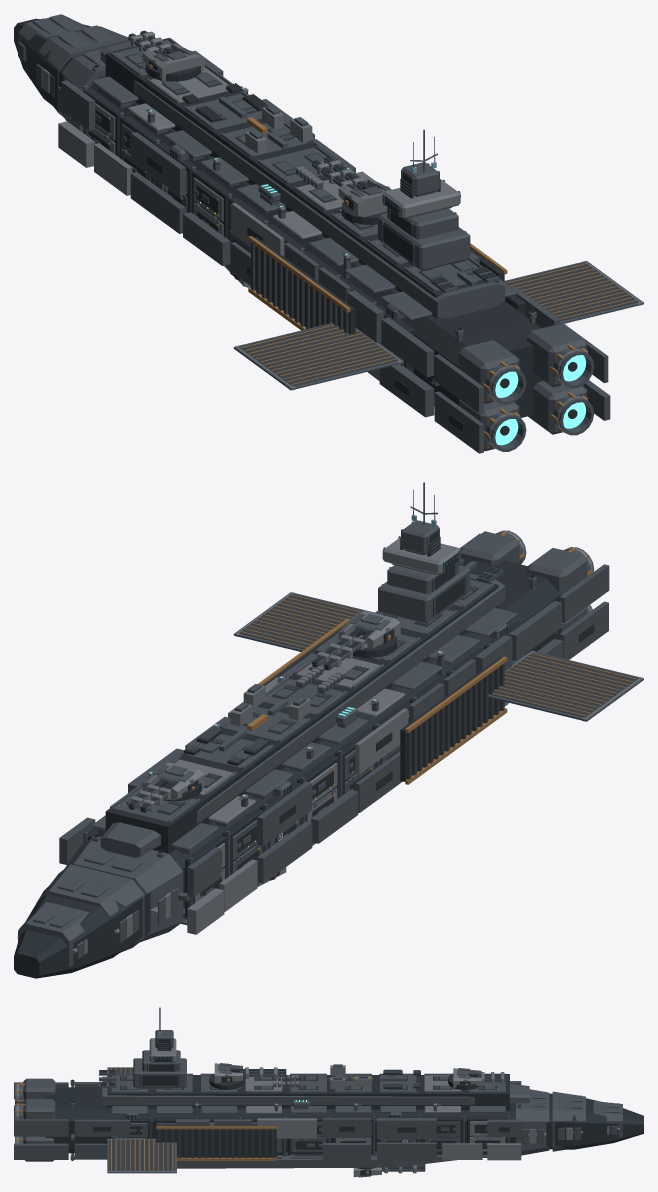
File: battleship.glb
The picture shows the model from 3 angles, top to bottom: view 1: azimuth 30°, elevation 25°; view 2: azimuth 150°, elevation 25°; view 3: azimuth 270°, elevation 25°; orthographic projection. The views are drawn at different scales.
Visible parts, largest first — view 1: FleetHull, mesh_turret_gun_2, mesh_turret_gun_1, mesh_recoil_gun_2, mesh_recoil_gun_1; view 2: FleetHull, mesh_recoil_gun_2, mesh_turret_gun_2, mesh_turret_gun_1, mesh_recoil_gun_1; view 3: FleetHull, mesh_turret_gun_2, mesh_recoil_gun_2, mesh_turret_gun_1, mesh_recoil_gun_1, mesh_recoil_gun_3.
Boxes of the visible parts, x1,y1,x2,y2 form: FleetHull: (14,14,643,453); mesh_turret_gun_2: (338,179,391,216); mesh_turret_gun_1: (142,43,204,80); mesh_recoil_gun_2: (312,157,389,197); mesh_recoil_gun_1: (128,30,193,62); FleetHull: (14,482,643,978); mesh_recoil_gun_2: (312,619,390,670); mesh_turret_gun_2: (338,610,400,648); mesh_turret_gun_1: (142,762,204,800); mesh_recoil_gun_1: (128,770,193,812); FleetHull: (14,1007,643,1173); mesh_turret_gun_2: (214,1063,242,1082); mesh_recoil_gun_2: (224,1066,286,1078); mesh_turret_gun_1: (453,1068,481,1087); mesh_recoil_gun_1: (462,1071,509,1083); mesh_recoil_gun_3: (364,1164,425,1176).
Size of the model in its own units: 500 by 368 by 1268.
